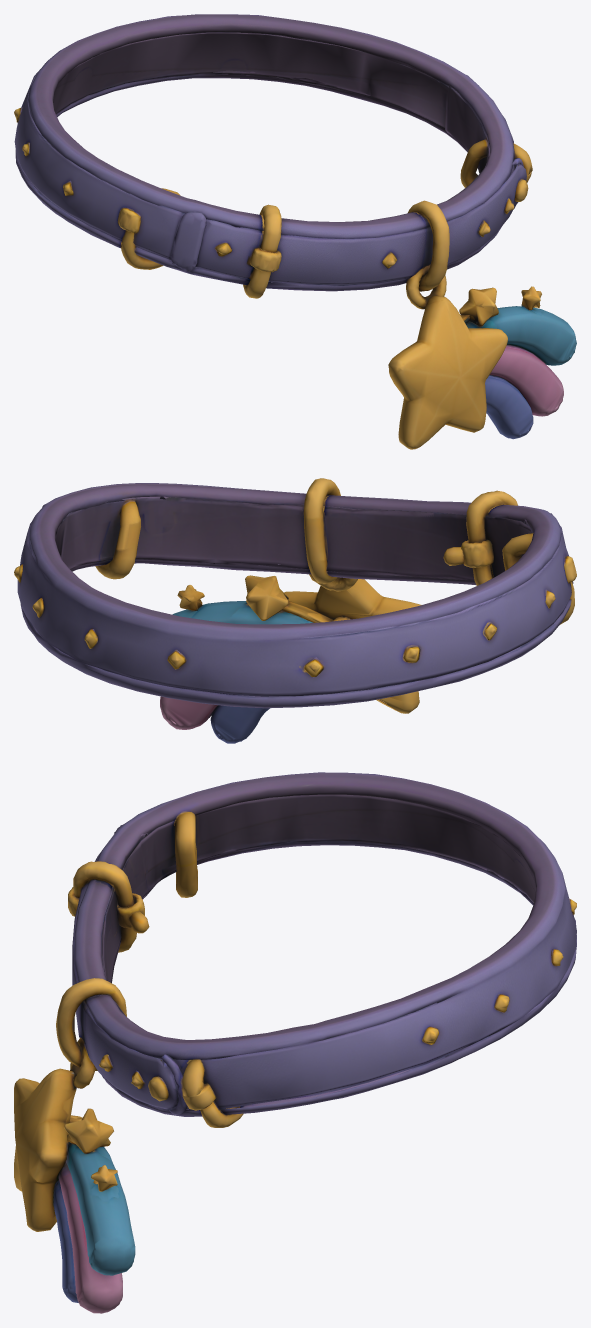
Rendered from mem_ac_starcharm.fbx.
3 views of the same model, one above another, from view 1: azimuth 30°, elevation 25°; view 2: azimuth 150°, elevation 25°; view 3: azimuth 270°, elevation 25° (orthographic). The views are drawn at different scales.
Visible parts, largest first — view 1: tripo_node_f14f3860; view 2: tripo_node_f14f3860; view 3: tripo_node_f14f3860.
Boxes of the visible parts, <box> form: tripo_node_f14f3860: <box>14,14,576,449</box>; tripo_node_f14f3860: <box>14,478,576,743</box>; tripo_node_f14f3860: <box>14,772,576,1313</box>.
Size of the model in its own units: 0.998 by 0.6699 by 0.998.
